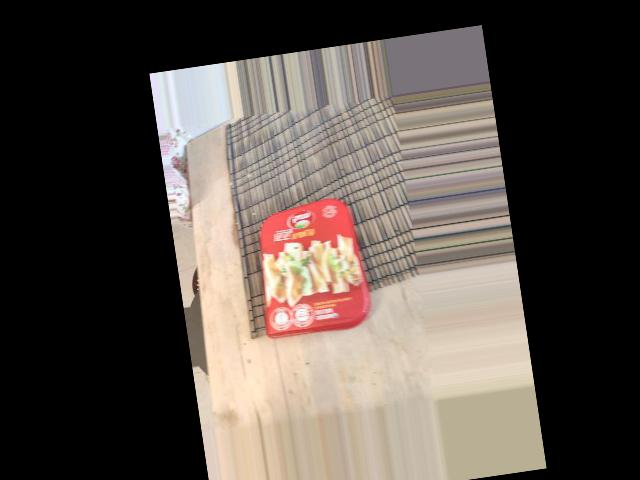cheese: (267, 158, 401, 267)
